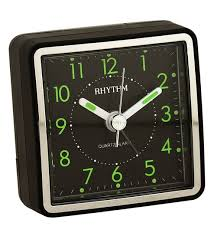alarm_clock: (8, 19, 208, 216)
